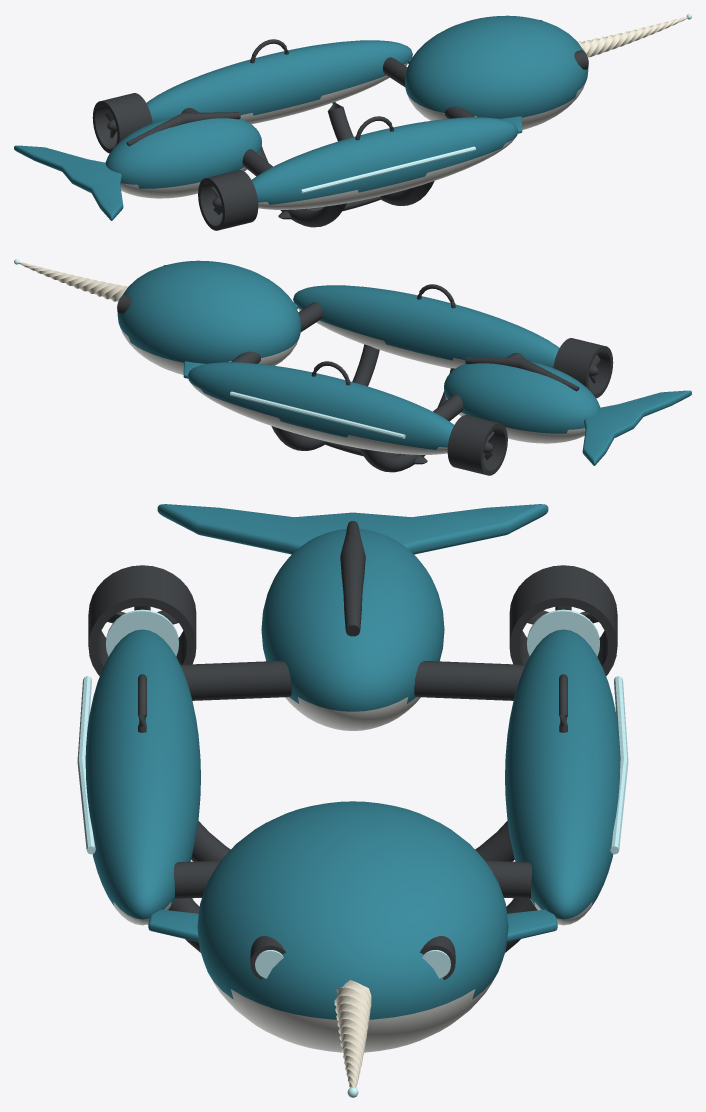
File: SM_Narwhal_Chassis.fbx
3 renders of one model, top to bottom at view 1: azimuth 30°, elevation 25°; view 2: azimuth 150°, elevation 25°; view 3: azimuth 270°, elevation 25°, orthographic. The views are drawn at different scales.
Parts seen in each view (by area): view 1: SM_Narwhal_Chassis; view 2: SM_Narwhal_Chassis; view 3: SM_Narwhal_Chassis.
Part boxes in pixels (bbox=[...]): SM_Narwhal_Chassis: bbox=[14, 14, 691, 230]; SM_Narwhal_Chassis: bbox=[14, 259, 691, 475]; SM_Narwhal_Chassis: bbox=[77, 504, 628, 1097].
Size of what is drawn, in the model's own units: 794 by 173 by 301.
